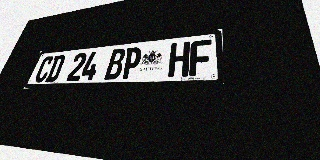2: (66, 52, 88, 81)
4: (79, 51, 102, 81)
B: (104, 48, 127, 80)
C: (33, 56, 55, 83)
D: (44, 55, 66, 82)
F: (189, 39, 211, 76)
H: (168, 41, 190, 77)
P: (120, 46, 143, 79)
